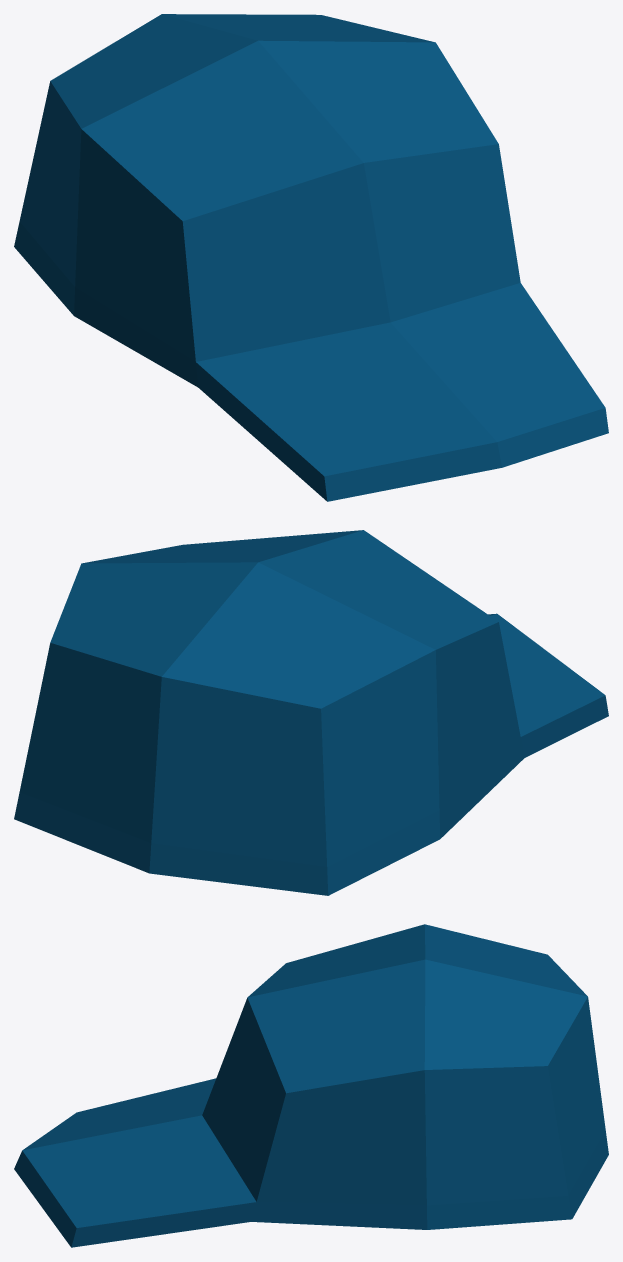
File: Bagfbx.fbx
3 renders of one model, top to bottom at view 1: azimuth 30°, elevation 25°; view 2: azimuth 150°, elevation 25°; view 3: azimuth 270°, elevation 25°, orthographic. The views are drawn at different scales.
Visible parts, largest first — view 1: Cap_1; view 2: Cap_1; view 3: Cap_1.
Boxes of the visible parts, x1,y1,x2,y2 form: Cap_1: (14,14,608,501); Cap_1: (14,530,608,895); Cap_1: (14,924,608,1247).
Size of the model in its own units: 37.91 by 27.01 by 63.26.
